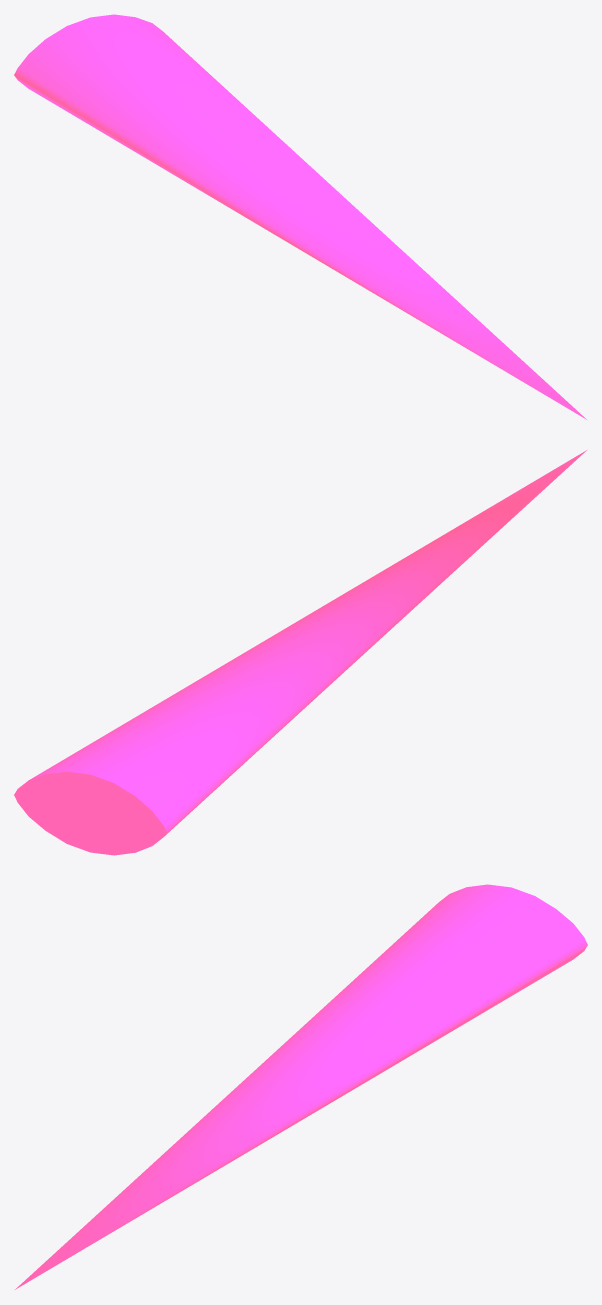
Rendered from New Gaze.fbx.
The picture shows the model from 3 angles, top to bottom: view 1: azimuth 30°, elevation 25°; view 2: azimuth 150°, elevation 25°; view 3: azimuth 330°, elevation 25°; orthographic projection.
Parts seen in each view (by area): view 1: pCone1; view 2: pCone1; view 3: pCone1.
Part boxes in pixels (left/top/right/bottom): pCone1: left=14, top=14, right=586, bottom=419; pCone1: left=14, top=450, right=586, bottom=855; pCone1: left=15, top=884, right=587, bottom=1289.
Bounding box in the file's own units: 2 × 0.9731 × 11.25.
